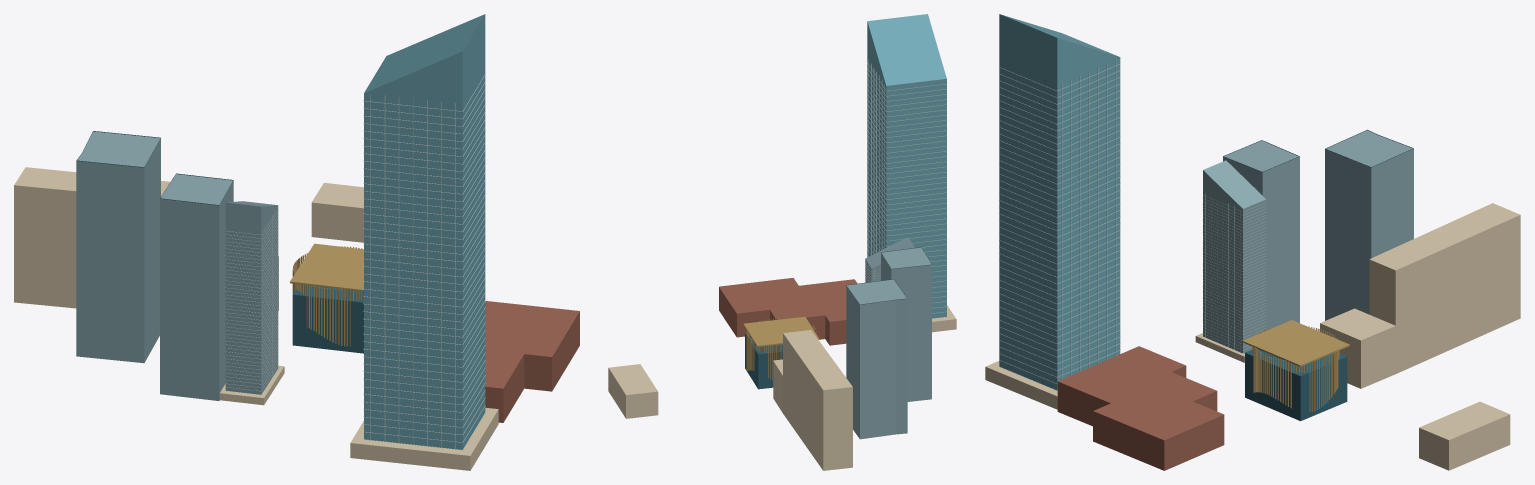
The model's file is city_1_-5.glb.
3 renders of one model, left to right at view 1: azimuth 30°, elevation 25°; view 2: azimuth 150°, elevation 25°; view 3: azimuth 270°, elevation 25°, orthographic. The views are drawn at different scales.
Visible parts, largest first — view 1: city_1_-5; view 2: city_1_-5; view 3: city_1_-5.
Part boxes in pixels (box(x1,y1,x2,y2)): city_1_-5: box(14, 14, 579, 470); city_1_-5: box(608, 14, 956, 470); city_1_-5: box(985, 14, 1520, 470).
Size of the model in its own units: 177 by 180 by 238.
